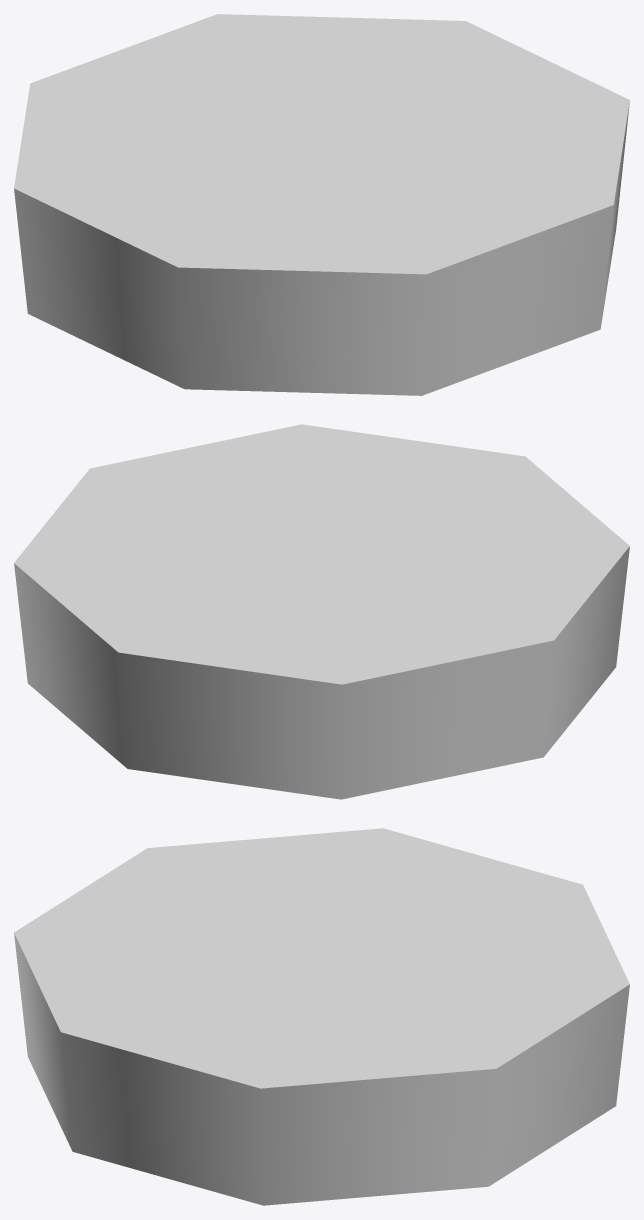
Rendered from LC_3025_Smokedetector_LOD1.FBX.
The picture shows the model from 3 angles, top to bottom: view 1: azimuth 30°, elevation 25°; view 2: azimuth 150°, elevation 25°; view 3: azimuth 270°, elevation 25°; orthographic projection. The views are drawn at different scales.
Parts seen in each view (by area): view 1: LC_3025_Smokedetector_LOD1; view 2: LC_3025_Smokedetector_LOD1; view 3: LC_3025_Smokedetector_LOD1.
Boxes of the visible parts, x1=… form: LC_3025_Smokedetector_LOD1: x1=14, y1=14, x2=629, y2=395; LC_3025_Smokedetector_LOD1: x1=14, y1=424, x2=629, y2=799; LC_3025_Smokedetector_LOD1: x1=14, y1=828, x2=629, y2=1205.
Bounding box in the file's own units: 23.3 × 8.01 × 23.3.
1 material, 1 textured.
